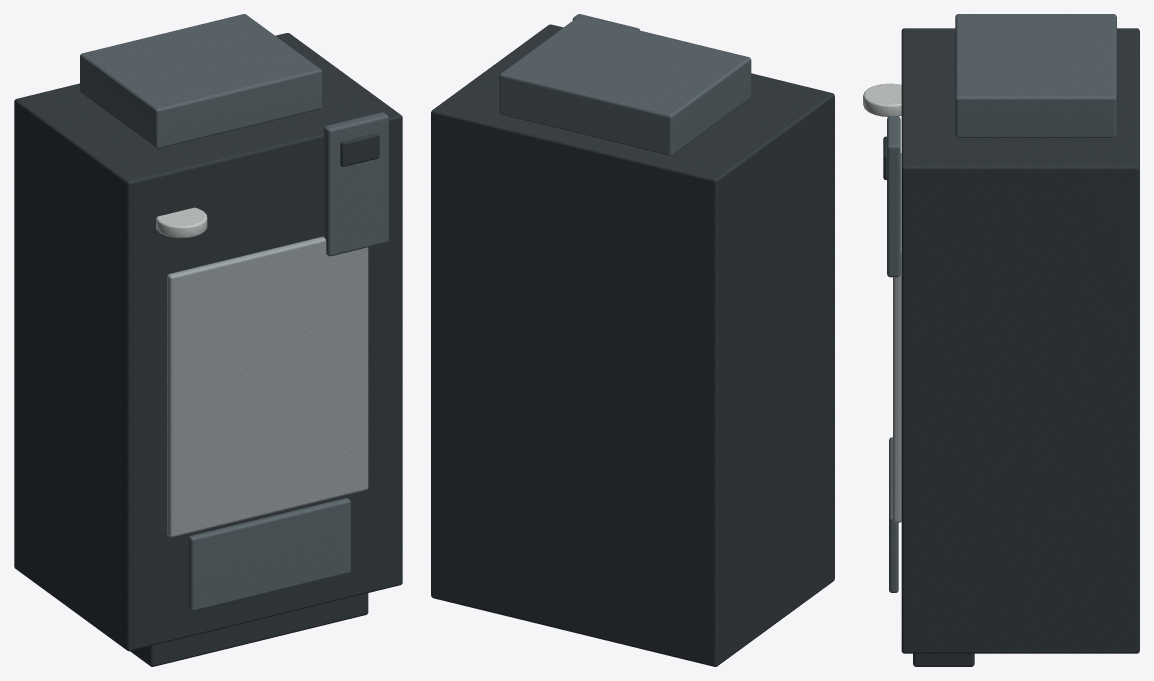
The model's file is MobileAirScrubber.glb.
3 renders of one model, left to right at view 1: azimuth 30°, elevation 25°; view 2: azimuth 150°, elevation 25°; view 3: azimuth 270°, elevation 25°, orthographic. The views are drawn at different scales.
Parts seen in each view (by area): view 1: MobileAirScrubber_Mesh; view 2: MobileAirScrubber_Mesh; view 3: MobileAirScrubber_Mesh.
Part boxes in pixels (bbox=[...]): MobileAirScrubber_Mesh: bbox=[14, 14, 402, 666]; MobileAirScrubber_Mesh: bbox=[431, 14, 834, 666]; MobileAirScrubber_Mesh: bbox=[863, 14, 1139, 666].
Size of the model in its own units: 0.86 by 1.6 by 0.72.
4 materials, 4 textured.
